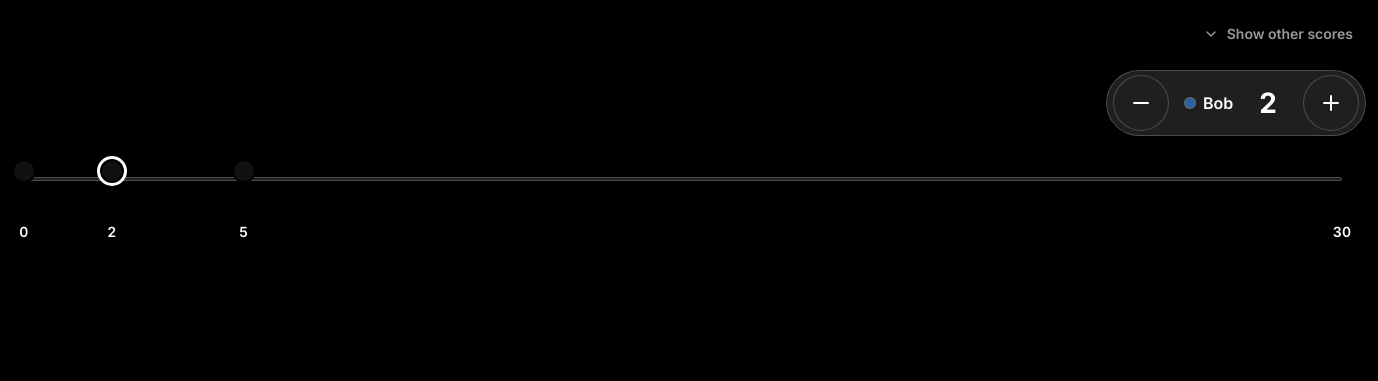
Test: ScorePanel: catch-up stack › omits the active player from the stack
Click the button "Show other scores".
click(1278, 34)  # box x1=1190 y1=12 x2=1366 y2=56
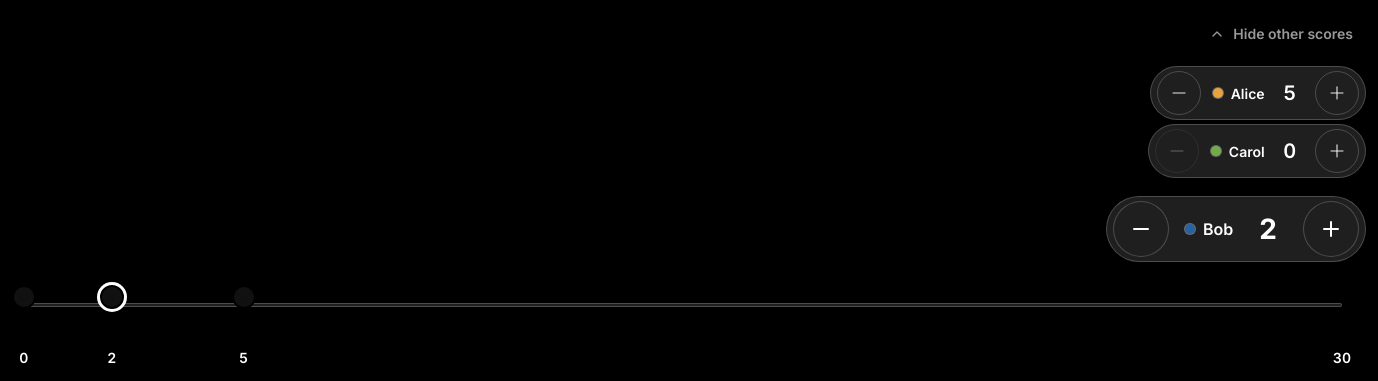
Expected: the element named "other player scores" does not show "Bob", x1=1148 y1=66 x2=1366 y2=178
Now the element named "other player scores" shows "Alice", box x1=1231 y1=84 x2=1265 y2=102
Now the element named "other player scores" shows "Carol", box x1=1229 y1=142 x2=1265 y2=160
